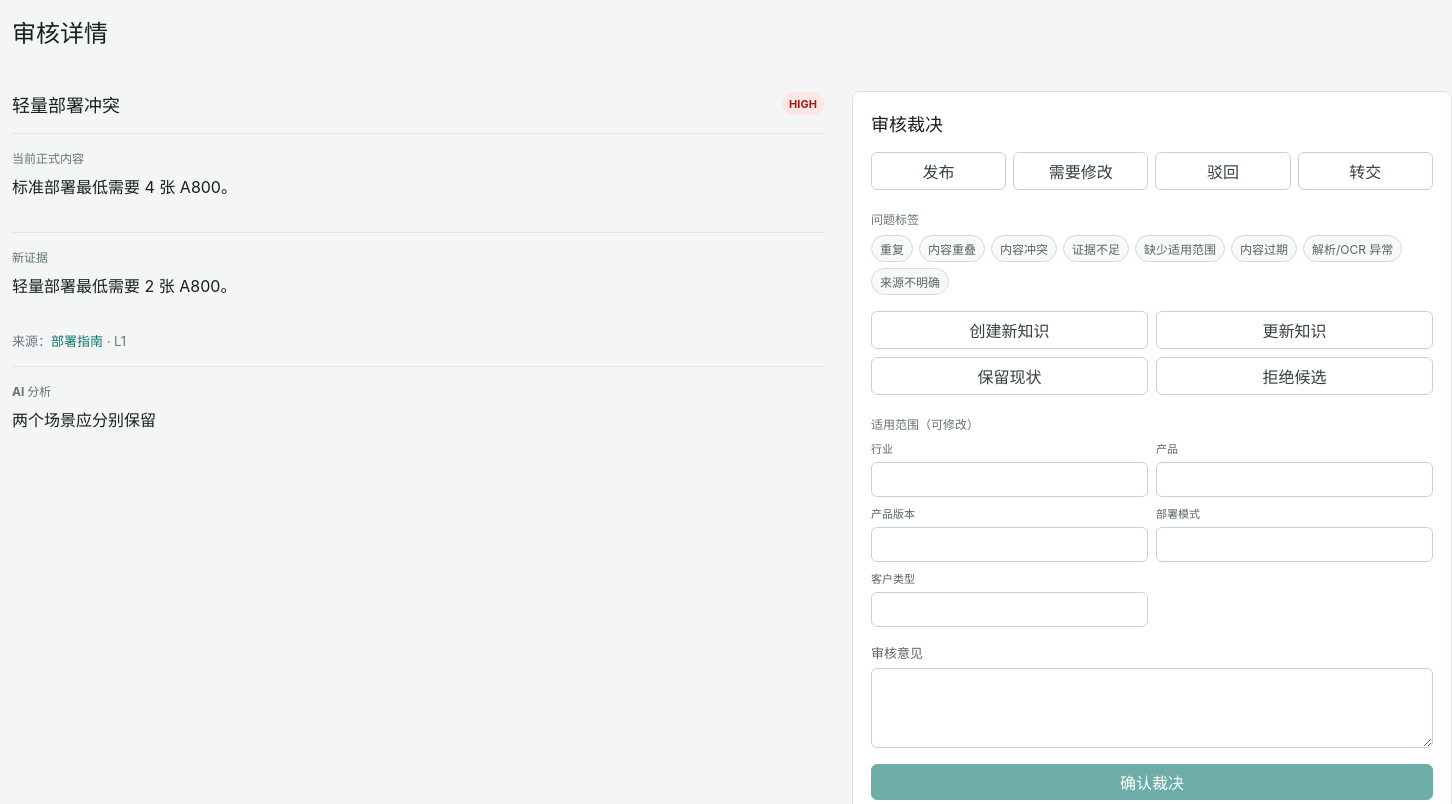
Test case: ReviewDetailPage › renders only server-allowed actions and requires a decision comment
This screenshot has width=1452, height=804.
Check: the button "更新知识" is shown, box [1156,311,1433,349]
Check: the button "发布" is shown, box [871,152,1006,190]
Click the button "创建新知识" at (1009, 330), box [871,311,1148,349]
(page scrolled)
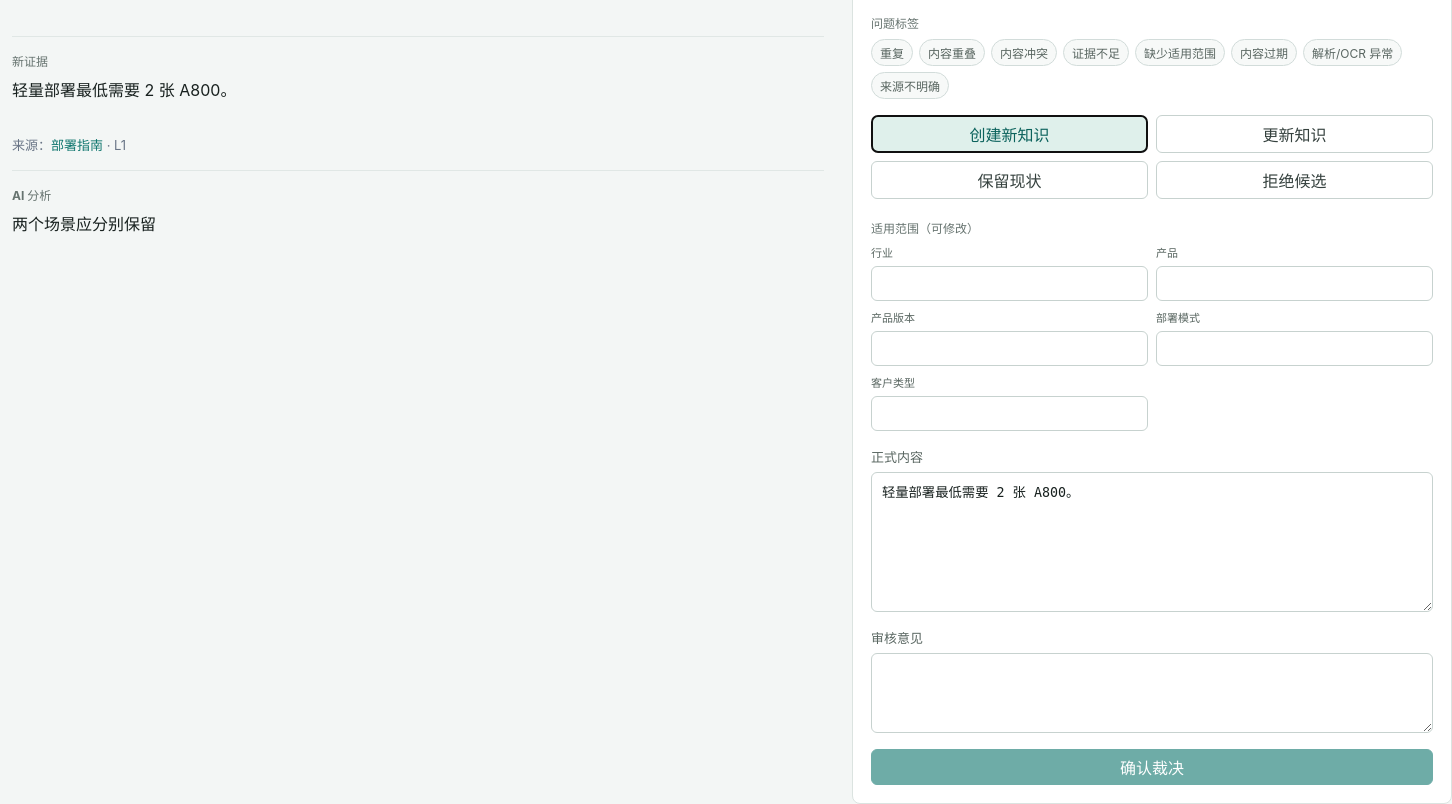
Check: the button "确认裁决" is disabled, box [871,749,1433,785]
Type "作为独立场景保留" into the text box labelled "审核意见" at (1152, 693), box [871,653,1433,733]
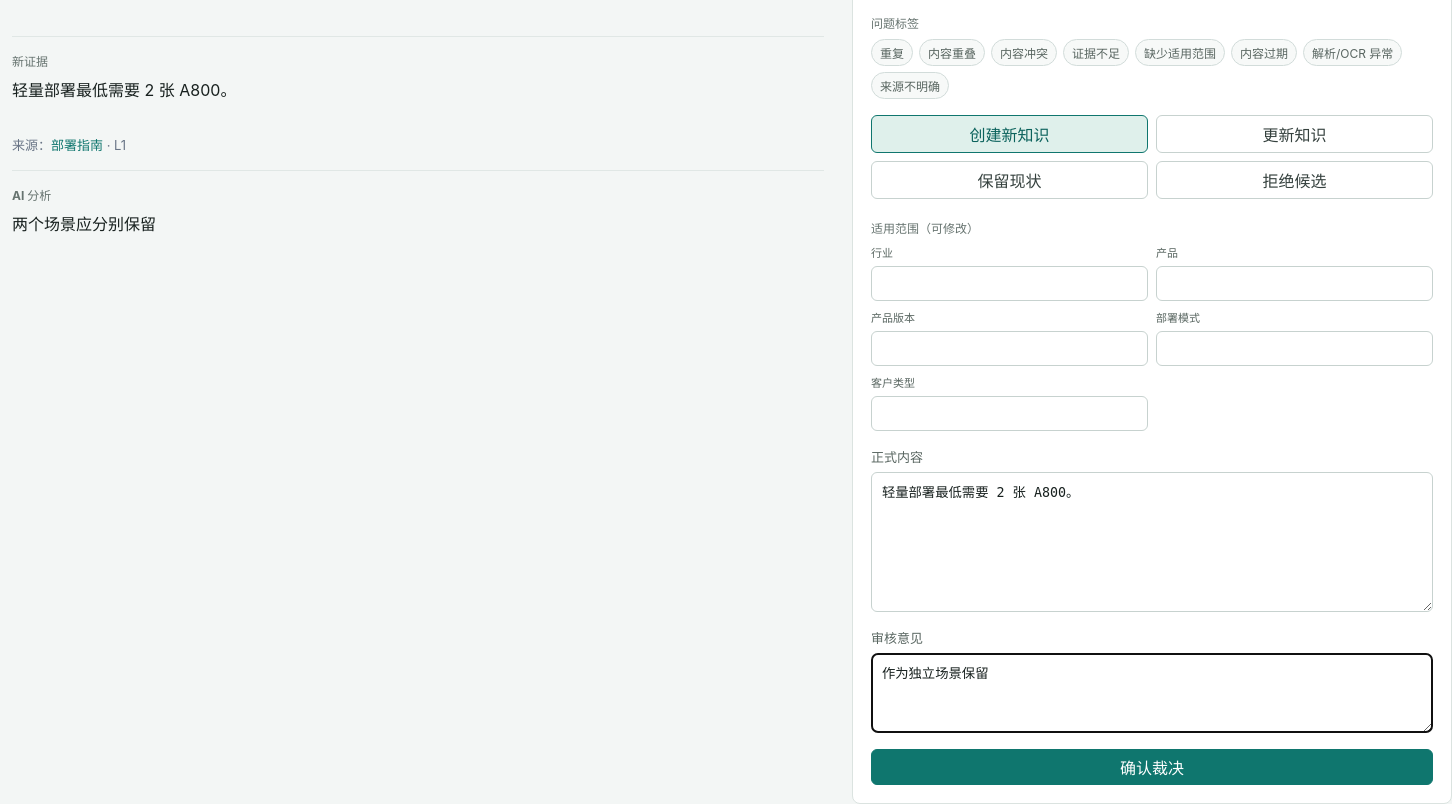
Check: the button "确认裁决" is enabled, box [871,749,1433,785]
